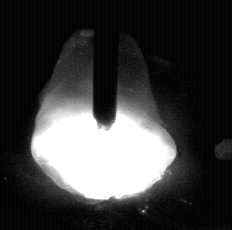arame: (93, 0, 118, 131)
poca: (30, 0, 176, 230)
